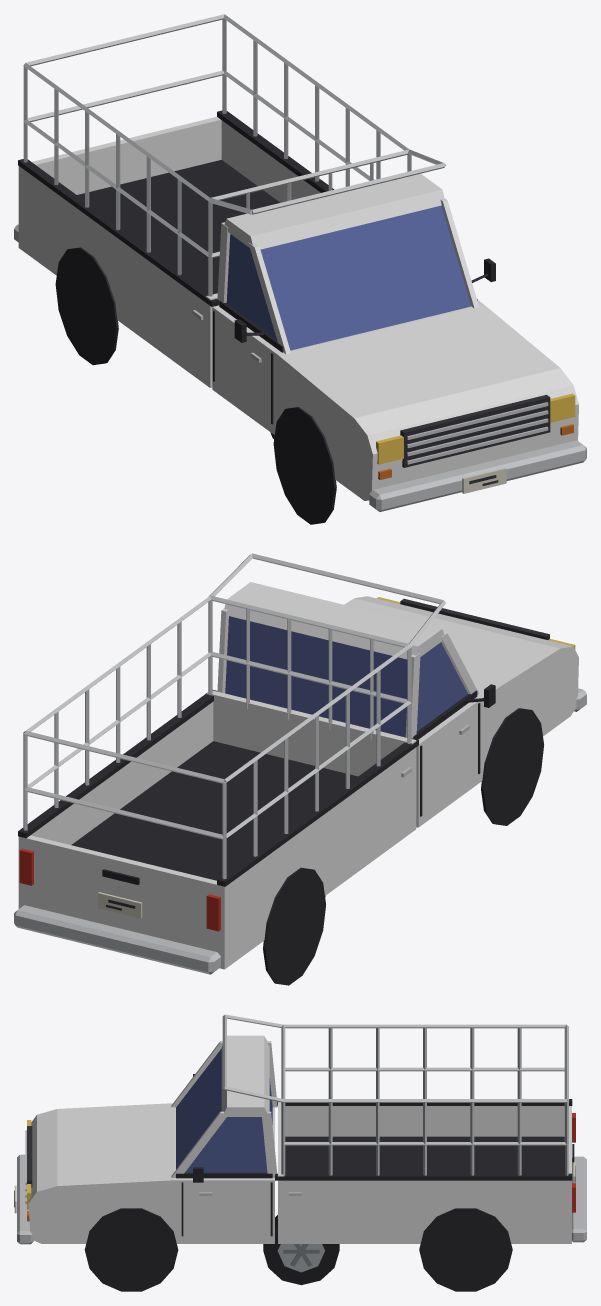
The model's file is pickup_cage.glb.
3 views of the same model, one above another, from view 1: azimuth 30°, elevation 25°; view 2: azimuth 150°, elevation 25°; view 3: azimuth 270°, elevation 25° (orthographic). The views are drawn at different scales.
Visible parts, largest first — view 1: body, paint, lights; view 2: body, paint, lights; view 3: paint, body, wheel0, lights.
Part boxes in pixels (box(x1,y1,x2,y2)): body: box(14, 14, 586, 524); paint: box(18, 116, 578, 500); lights: box(376, 393, 575, 464); body: box(14, 553, 586, 985); paint: box(18, 582, 578, 969); lights: box(19, 597, 575, 931); paint: box(28, 1035, 571, 1243); body: box(14, 1014, 586, 1291); wheel0: box(263, 1215, 339, 1285); lights: box(27, 1113, 575, 1212).
Size of the model in its own units: 2.12 by 2.39 by 5.4.
